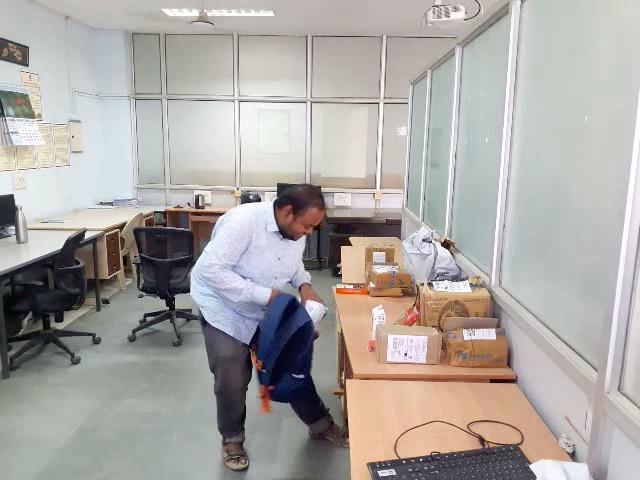shoplifting: (155, 246, 455, 411)
